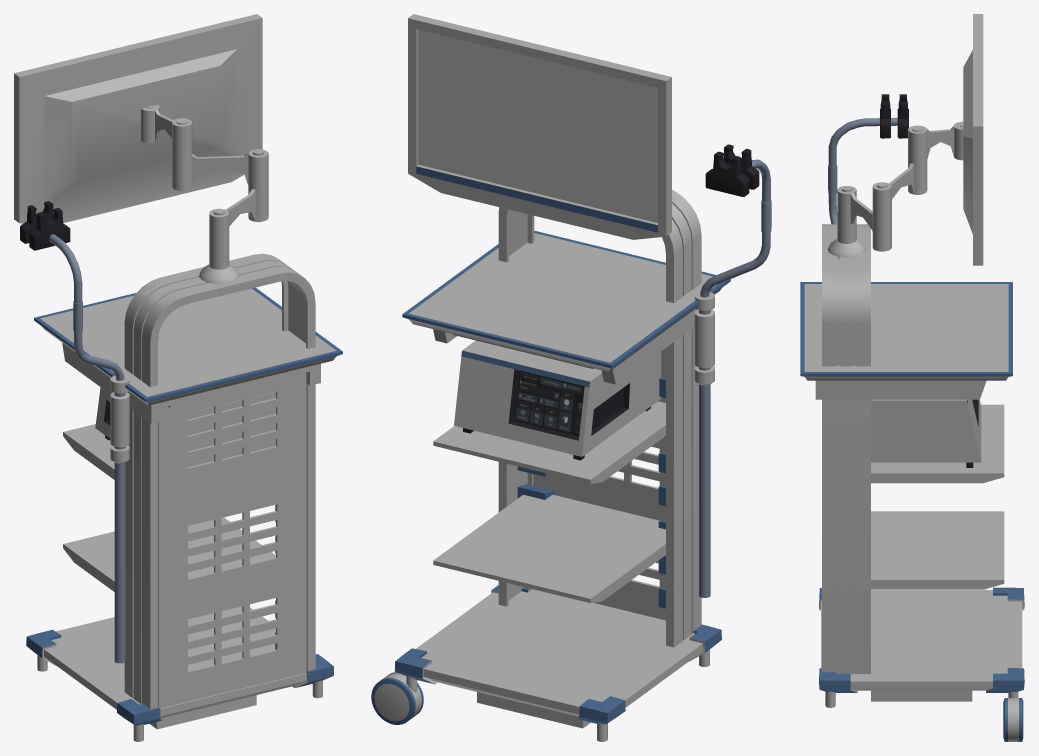
File: ColonoscopyRack.fbx
3 renders of one model, left to right at view 1: azimuth 30°, elevation 25°; view 2: azimuth 150°, elevation 25°; view 3: azimuth 270°, elevation 25°, orthographic. The views are drawn at different scales.
Visible parts, largest first — view 1: Con_Rack, Con_Monitor, Con_apoyo, Con_brazo_2, Con_brazo_1, Con_brazo_3; view 2: Con_Rack, Con_Monitor, Con_apoyo, Con_rueda_01; view 3: Con_Rack, Con_Monitor, Con_apoyo, Con_brazo_2, Con_brazo_1, Con_brazo_3, Con_rueda_01.
Boxes of the visible parts, box(x1,y1,x2,y2) form: Con_Rack: box(26, 246, 342, 741); Con_Monitor: box(14, 14, 262, 223); Con_apoyo: box(20, 201, 125, 663); Con_brazo_2: box(172, 149, 268, 191); Con_brazo_1: box(209, 185, 268, 249); Con_brazo_3: box(141, 104, 192, 158); Con_Rack: box(394, 190, 730, 741); Con_Monitor: box(408, 14, 671, 239); Con_apoyo: box(699, 144, 771, 597); Con_rueda_01: box(371, 672, 423, 724); Con_Rack: box(800, 221, 1024, 707); Con_Monitor: box(963, 14, 983, 265); Con_apoyo: box(828, 94, 908, 224); Con_brazo_2: box(872, 160, 927, 220); Con_brazo_1: box(837, 186, 891, 251); Con_brazo_3: box(908, 121, 963, 164); Con_rueda_01: box(1003, 698, 1023, 741).
Bounding box in the file's own units: 93.7 × 199 × 65.74.
